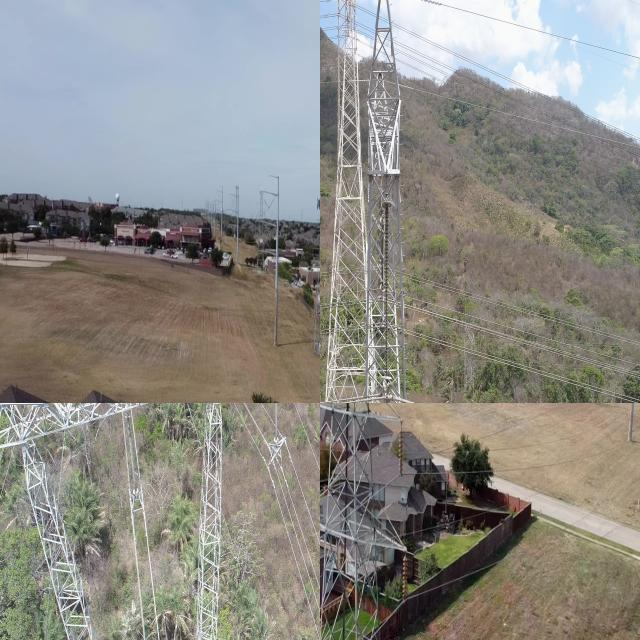杆塔: (0, 403, 280, 640), (320, 0, 389, 403), (364, 0, 423, 403), (320, 403, 398, 640), (255, 189, 269, 273), (313, 195, 320, 353)
正常绝缘子: (382, 200, 392, 381), (124, 411, 139, 495), (398, 547, 411, 610), (396, 418, 407, 481), (272, 403, 281, 448)
